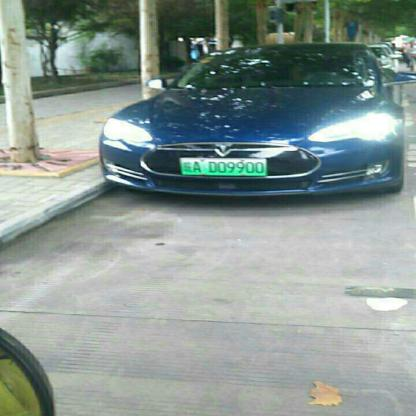lp: (181, 158, 264, 174)
